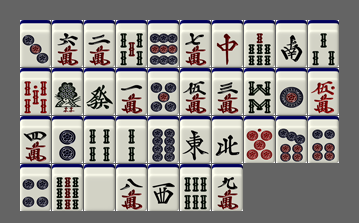0m: (308, 68, 339, 115)
0p: (244, 116, 275, 163)
0s: (20, 68, 51, 115)
1m: (116, 68, 147, 115)
1p: (276, 68, 307, 115)
1s: (52, 68, 83, 115)
1z: (180, 116, 211, 163)
2m: (84, 20, 115, 67)
2p: (52, 116, 83, 163)
2s: (116, 116, 147, 163)
2z: (276, 20, 307, 67)
3m: (212, 68, 243, 115)
3p: (20, 20, 51, 67)
3s: (308, 20, 339, 67)
3z: (148, 164, 179, 211)
4m: (20, 116, 51, 163)
4p: (20, 164, 51, 211)
4s: (84, 116, 115, 163)
4z: (212, 116, 243, 163)
5m: (180, 68, 211, 115)
5p: (148, 68, 179, 115)
5s: (116, 20, 147, 67)
5z: (84, 164, 115, 211)
6m: (52, 20, 83, 67)
6p: (308, 116, 339, 163)
6s: (180, 164, 211, 211)
6z: (84, 68, 115, 115)
7m: (180, 20, 211, 67)
7p: (276, 116, 307, 163)
7s: (244, 20, 275, 67)
7z: (212, 20, 243, 67)
8m: (116, 164, 147, 211)
8p: (148, 116, 179, 163)
8s: (244, 68, 275, 115)
9m: (212, 164, 243, 211)
9p: (148, 20, 179, 67)
9s: (52, 164, 83, 211)
